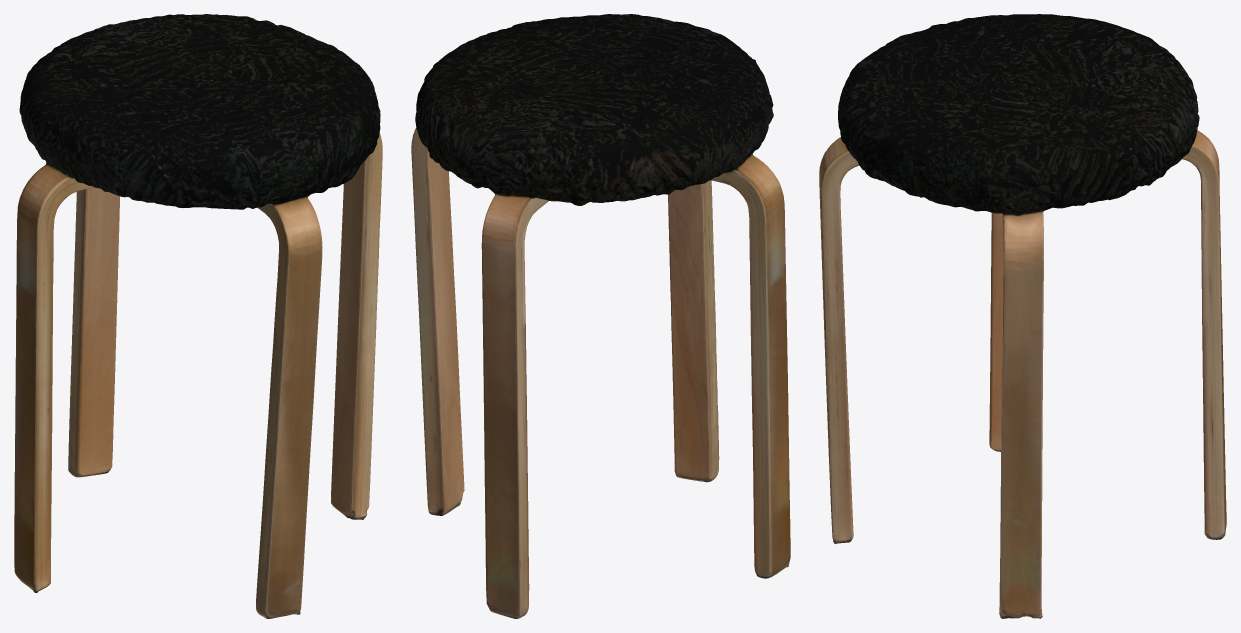
The picture shows the model from 3 angles, left to right: view 1: azimuth 30°, elevation 25°; view 2: azimuth 150°, elevation 25°; view 3: azimuth 270°, elevation 25°; orthographic projection.
Visible parts, largest first — view 1: Ring Hocker_33k_2k; view 2: Ring Hocker_33k_2k; view 3: Ring Hocker_33k_2k.
Part boxes in pixels (box(x1,y1,x2,y2)): Ring Hocker_33k_2k: box(14, 14, 382, 618); Ring Hocker_33k_2k: box(411, 14, 790, 618); Ring Hocker_33k_2k: box(819, 14, 1226, 618).
Bounding box in the file's own units: 0.3955 × 0.5049 × 0.396.
Materials: 1 (1 with a texture image).
